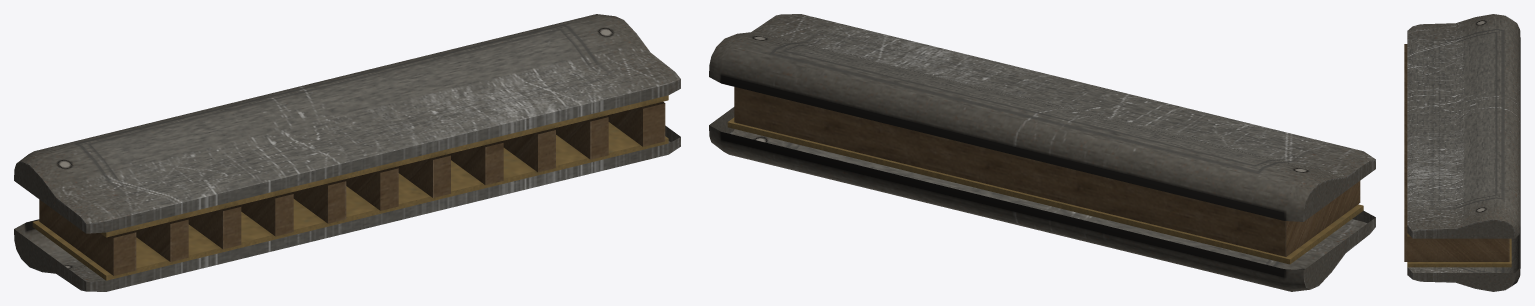
Rendered from Harmonica.fbx.
3 views of the same model, side by side, from view 1: azimuth 30°, elevation 25°; view 2: azimuth 150°, elevation 25°; view 3: azimuth 270°, elevation 25° (orthographic). The views are drawn at different scales.
Visible parts, largest first — view 1: Harmonica.001; view 2: Harmonica.001; view 3: Harmonica.001.
Part boxes in pixels (bbox=[...]): Harmonica.001: bbox=[14, 14, 680, 291]; Harmonica.001: bbox=[709, 14, 1375, 291]; Harmonica.001: bbox=[1404, 14, 1520, 291].
Size of the model in its own units: 0.111 by 0.0198 by 0.0265.
